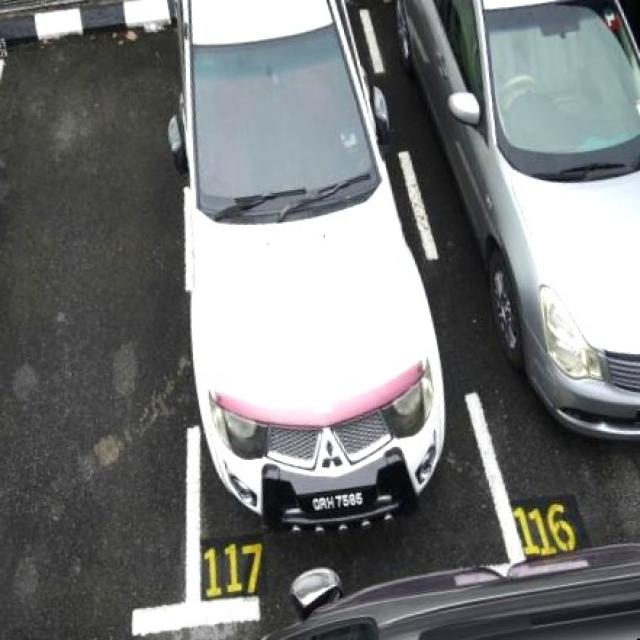Legalparking: (150, 0, 454, 522), (428, 0, 640, 444)
illegalparking: (249, 563, 640, 640)
